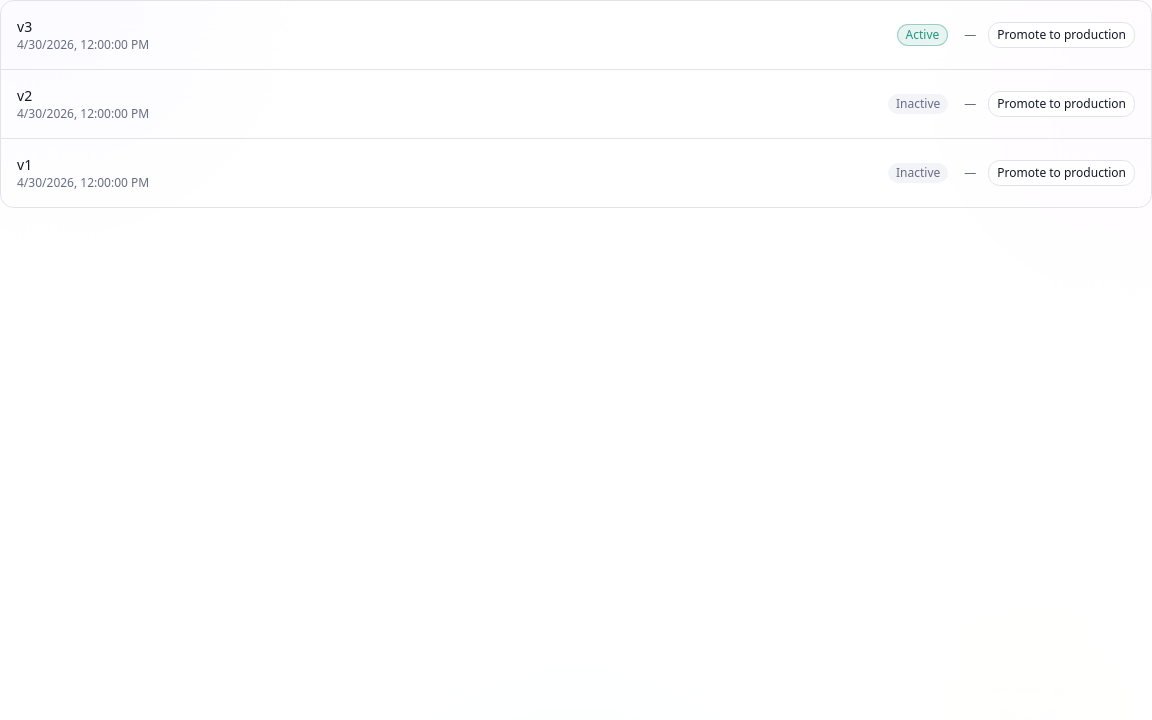
Test: AgentVersionsList › opens the diff modal with config_json vs prior version
Step 1. Click the button with test id "agent-version-row-2" → [83, 114], box [17, 86, 948, 122]
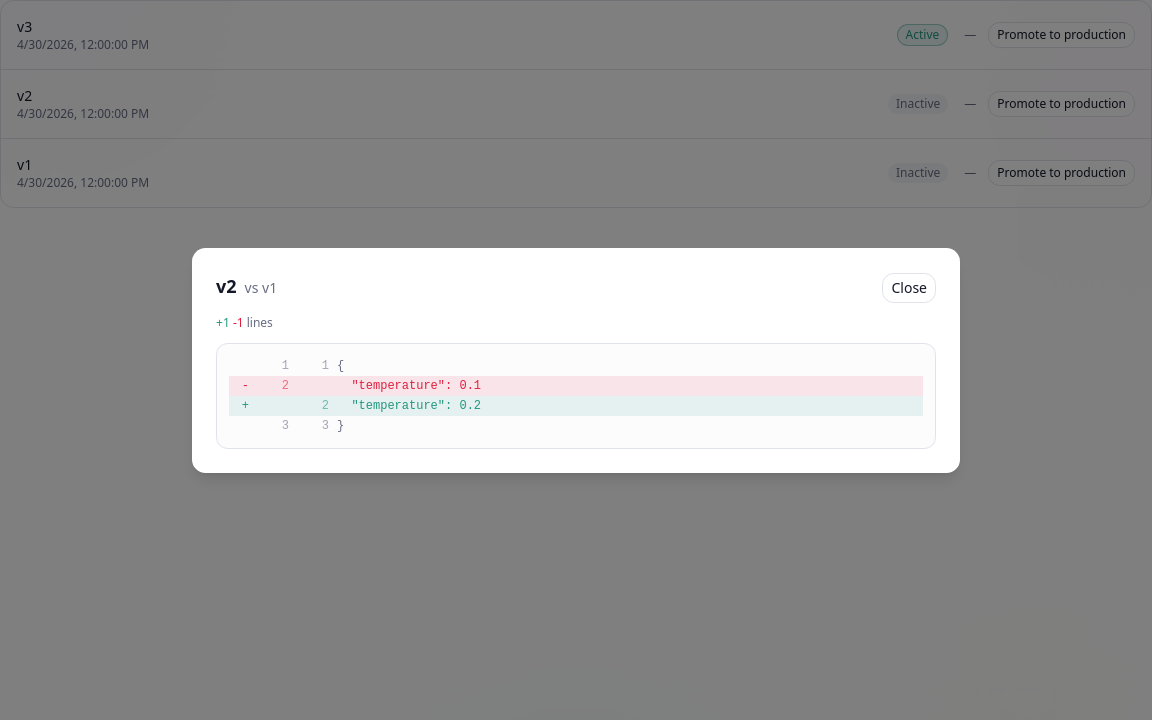
Expected: the dialog with test id "diff-viewer-modal" is shown
Expected: the dialog with test id "diff-viewer-modal" shows "v2"
Expected: the dialog with test id "diff-viewer-modal" shows "vs v1"
